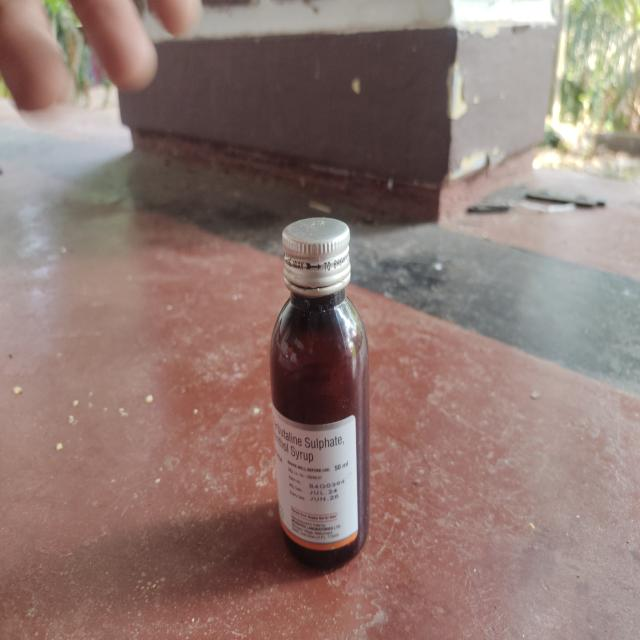plastic: (265, 212, 374, 573)
